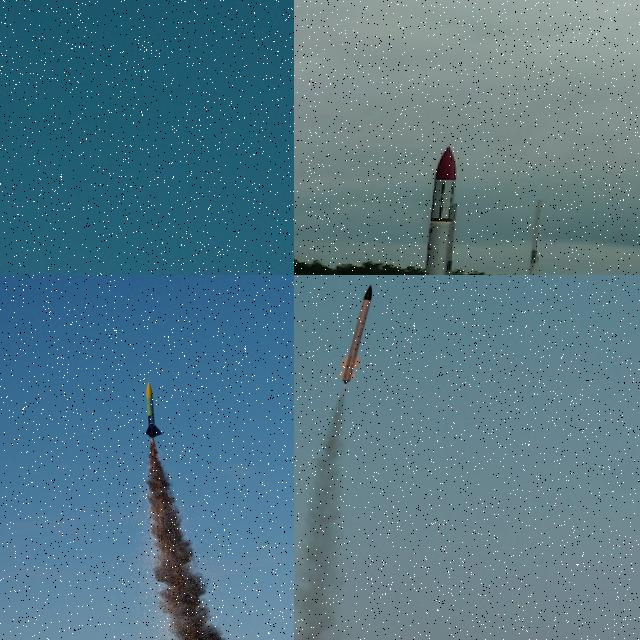Rocket: (397, 145, 458, 275), (337, 284, 373, 385), (146, 381, 163, 438)
